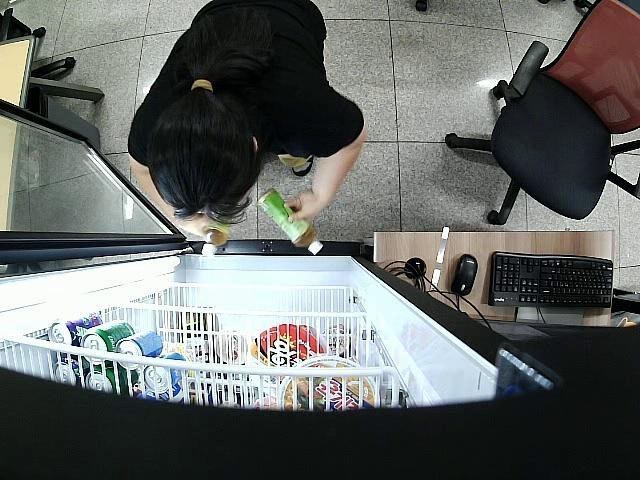19_17cha: (257, 190, 323, 257), (199, 216, 229, 262)
